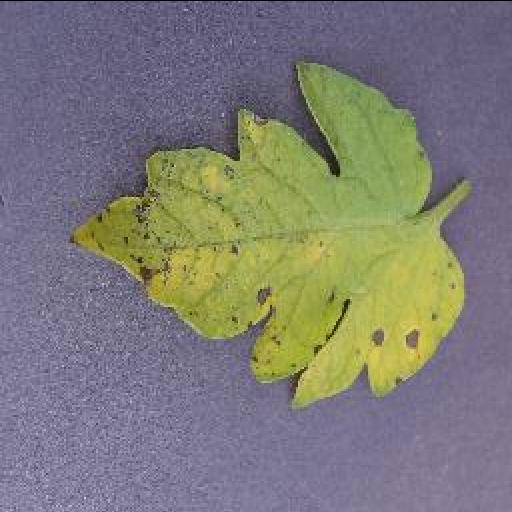disease_tomato: (60, 58, 470, 408)
